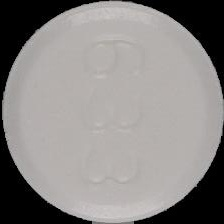0615-6590: (0, 0, 224, 224)
